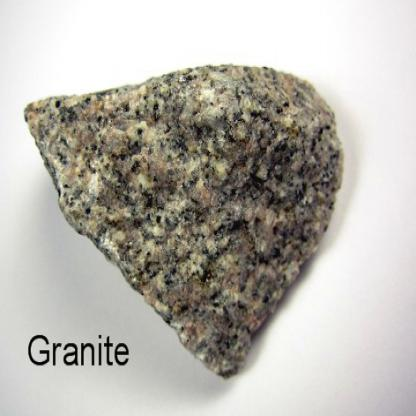Igneous_Granite: (19, 59, 352, 384)
